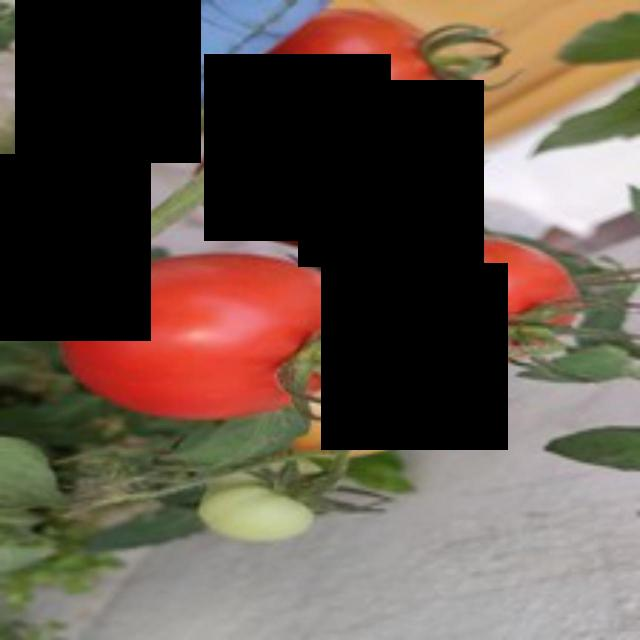tomato: (60, 248, 384, 438), (337, 218, 579, 376), (196, 109, 459, 253), (250, 8, 452, 122)
